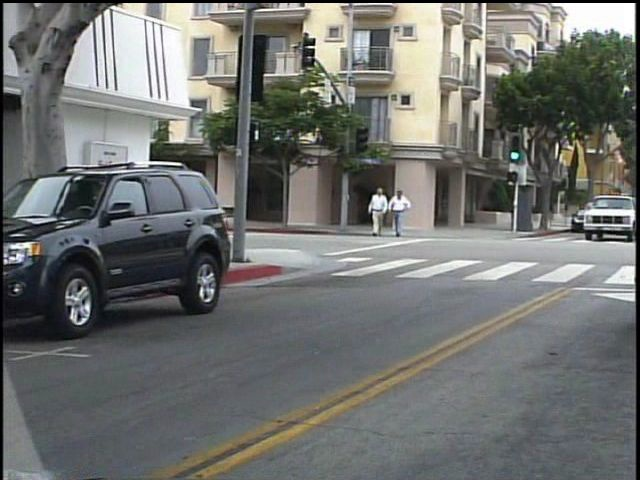person: (392, 185, 418, 242), (373, 183, 397, 244)
